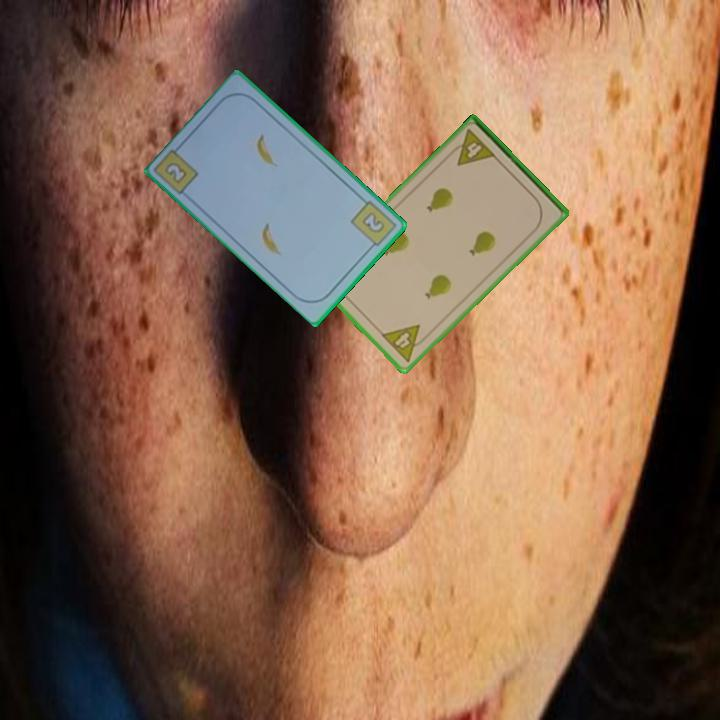2b: (347, 197, 399, 254), (161, 159, 190, 187)
4p: (377, 321, 432, 365), (445, 126, 499, 169)
